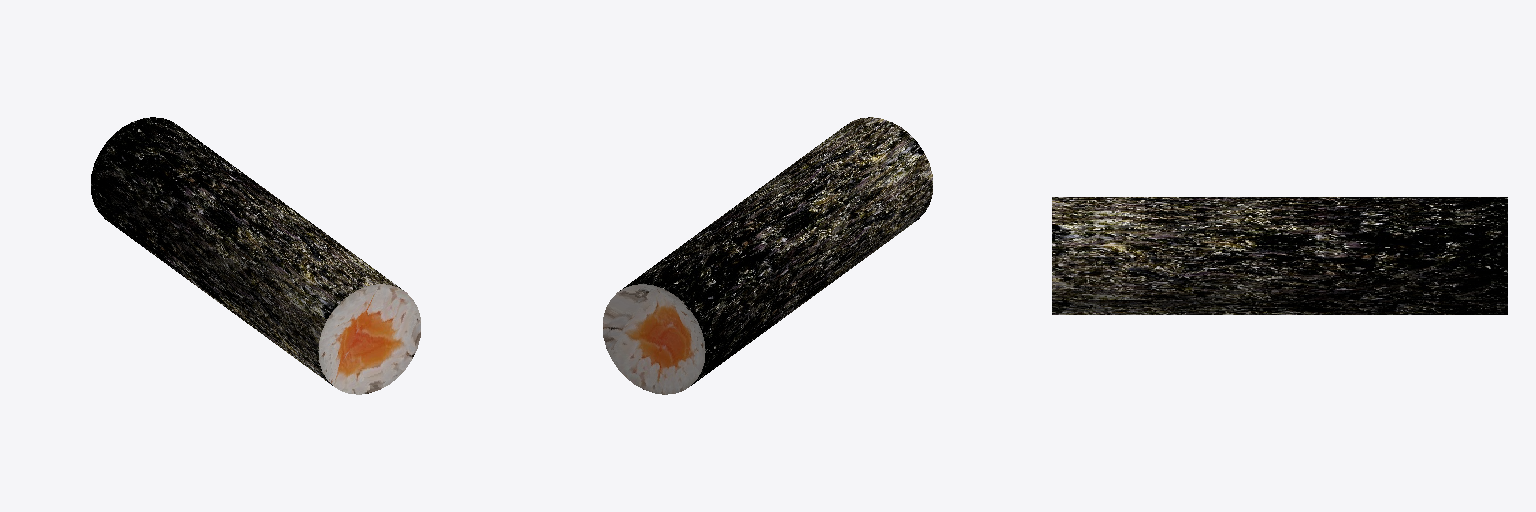
The picture shows the model from 3 angles: view 1: azimuth 30°, elevation 25°; view 2: azimuth 150°, elevation 25°; view 3: azimuth 270°, elevation 25°; orthographic projection.
Visible parts, largest first — view 1: Cylinder; view 2: Cylinder; view 3: Cylinder.
Boxes of the visible parts, box(x1,y1,x2,y2) form: Cylinder: box(91, 117, 420, 394); Cylinder: box(603, 117, 932, 394); Cylinder: box(1052, 197, 1507, 314).
Size of the model in its own units: 0.2819 by 0.2819 by 1.08.
2 materials, 2 textured.